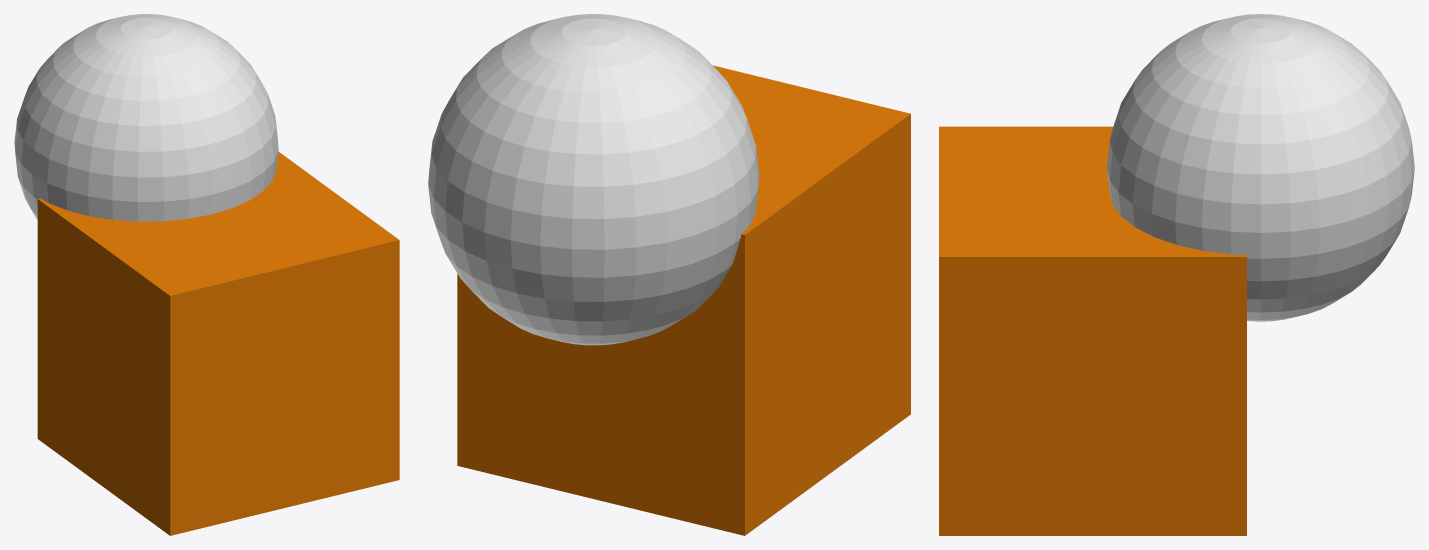
3 views of the same model, side by side, from view 1: azimuth 30°, elevation 25°; view 2: azimuth 150°, elevation 25°; view 3: azimuth 270°, elevation 25° (orthographic). The views are drawn at different scales.
Parts seen in each view (by area): view 1: Cube; view 2: Cube; view 3: Cube.
Boxes of the visible parts, <box> form: Cube: <box>14,14,399,535</box>; Cube: <box>428,14,910,535</box>; Cube: <box>939,14,1414,535</box>.
Size of the model in its own units: 200 by 317 by 309.
